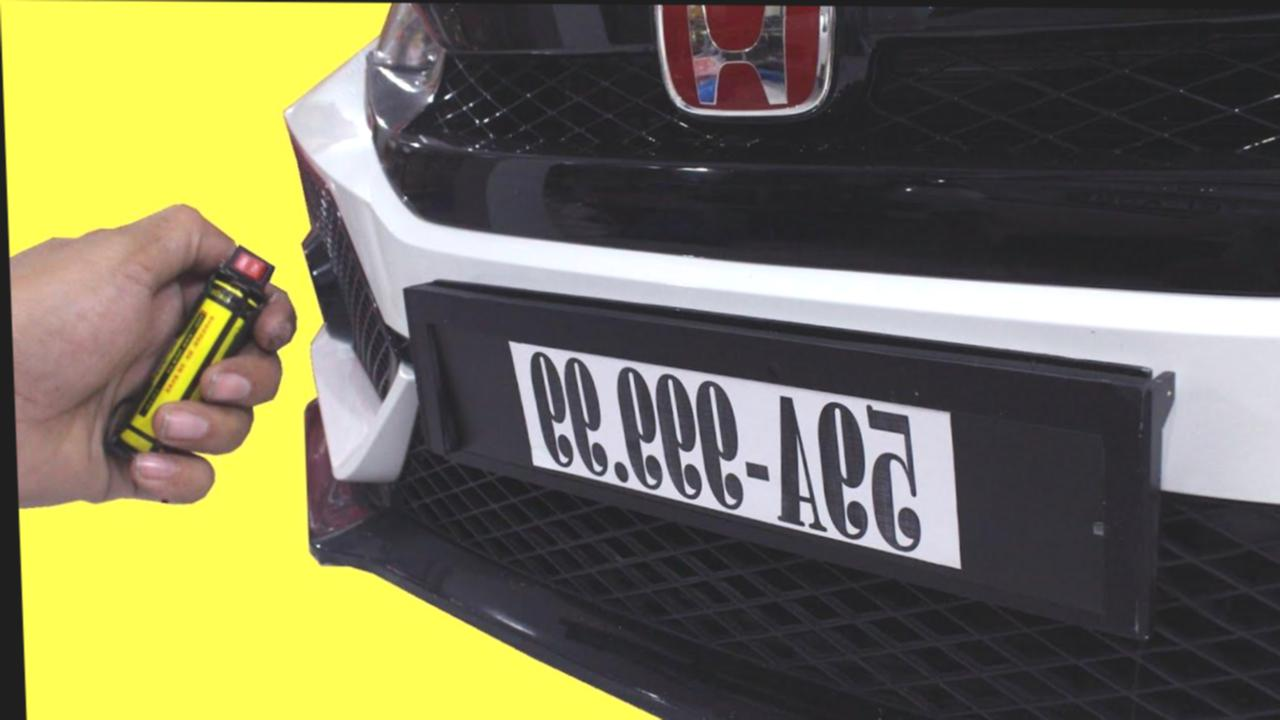License_Plate: (477, 332, 982, 576)
